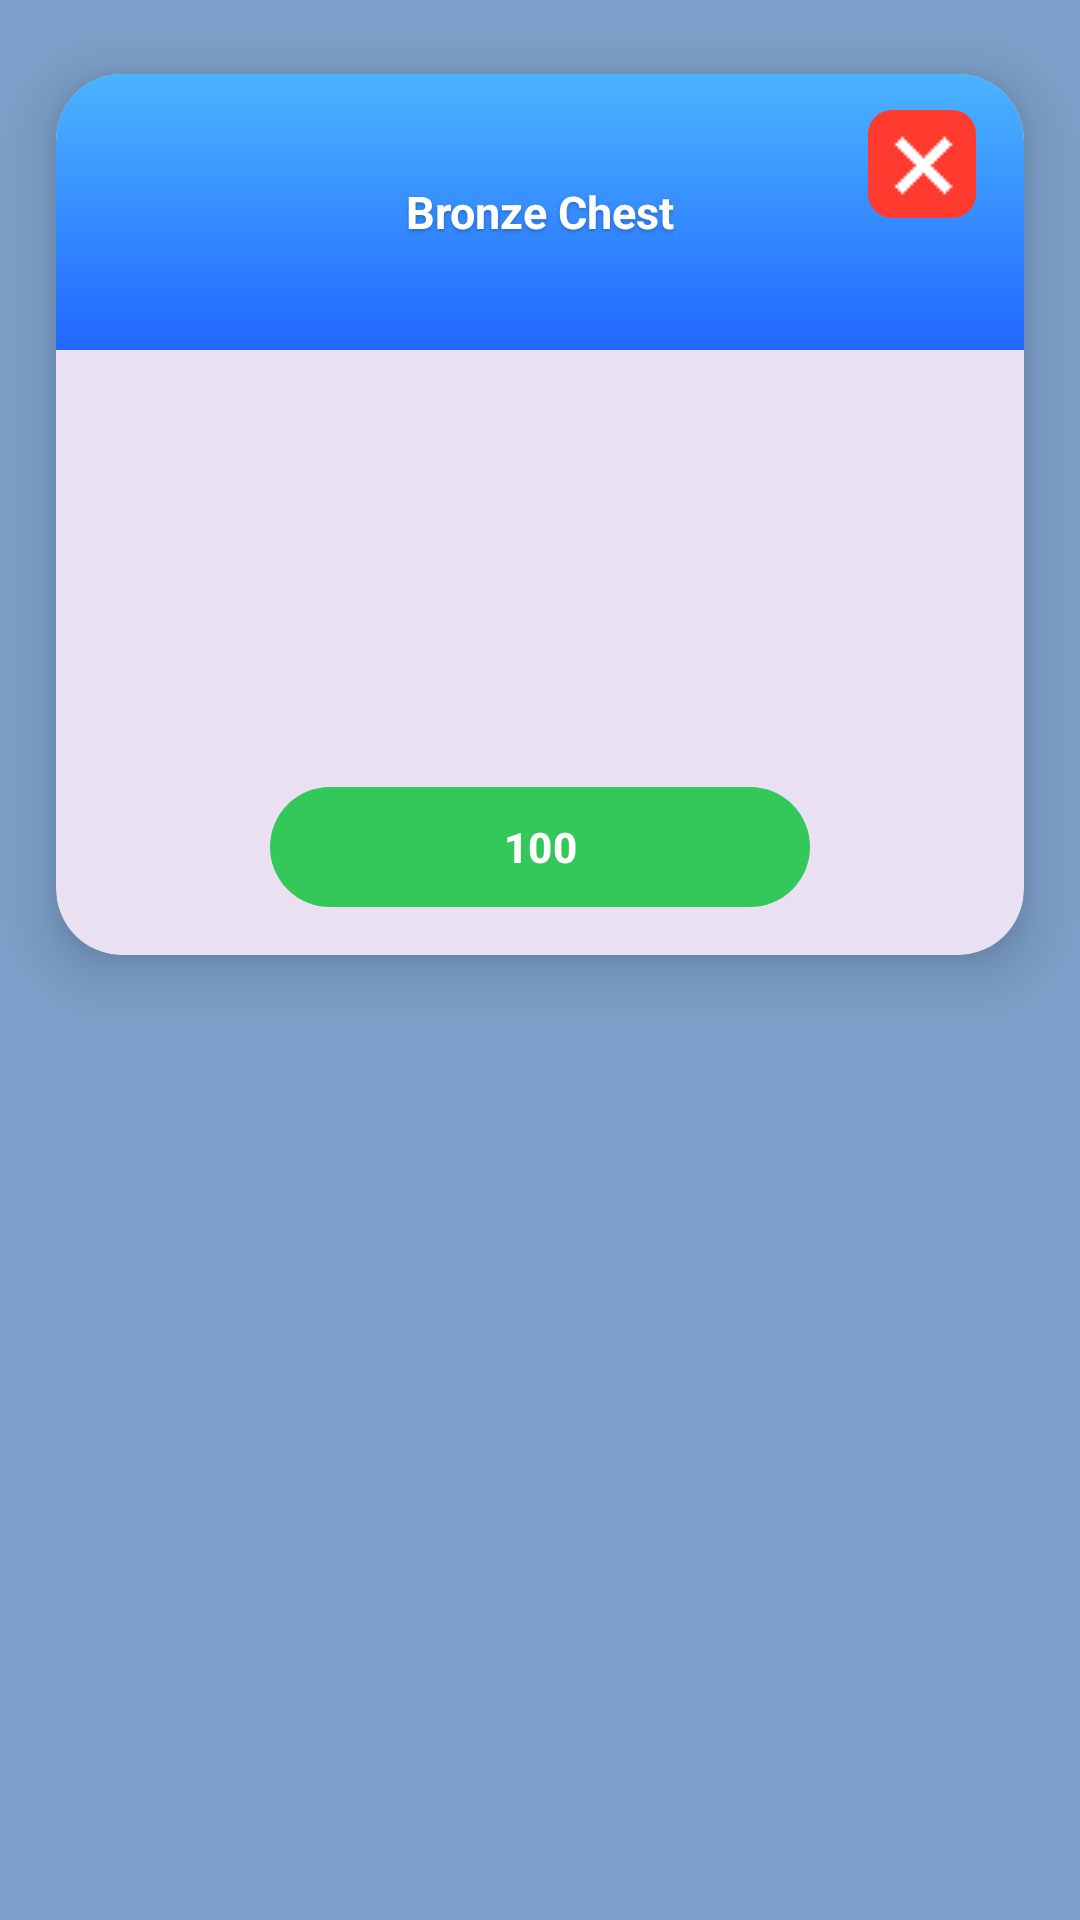

Screen size 1080 x 1920. Icon name, then its center in pixels as (x=x, y=y):
close: (x=922, y=164)
